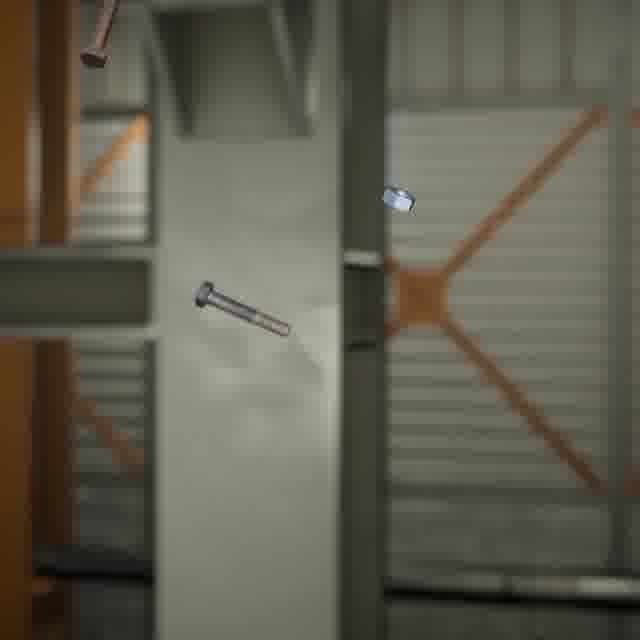bolt: (190, 276, 295, 341), (76, 0, 124, 72)
nut: (377, 182, 419, 216)
